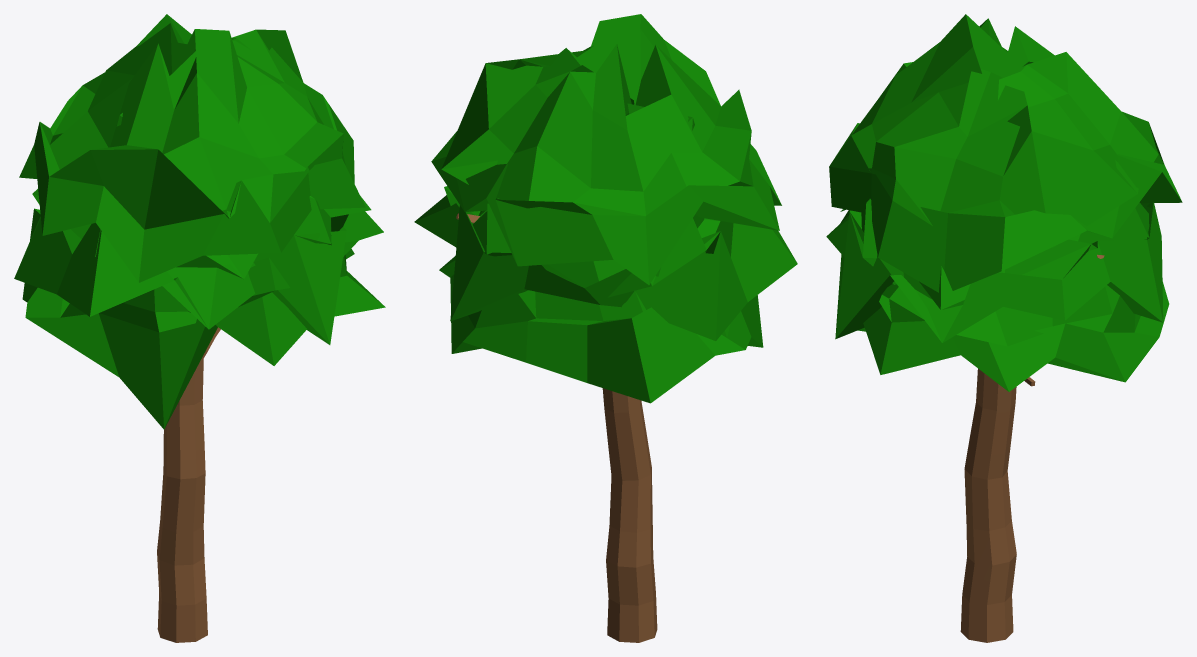
Rendered from Tree2.fbx.
The picture shows the model from 3 angles, left to right: view 1: azimuth 30°, elevation 25°; view 2: azimuth 150°, elevation 25°; view 3: azimuth 270°, elevation 25°; orthographic projection.
Visible parts, largest first — view 1: Circle.002, Cylinder; view 2: Circle.002, Cylinder; view 3: Circle.002, Cylinder.
Boxes of the visible parts, bbox=[...] form: Circle.002: bbox=[14, 14, 385, 429]; Cylinder: bbox=[157, 327, 220, 642]; Circle.002: bbox=[414, 14, 797, 403]; Cylinder: bbox=[456, 213, 657, 642]; Circle.002: bbox=[826, 14, 1182, 391]; Cylinder: bbox=[960, 254, 1104, 642].
Bounding box in the file's own units: 1450 × 2590 × 1353.
